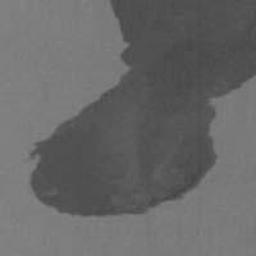Oil spot: (24, 0, 256, 219)
